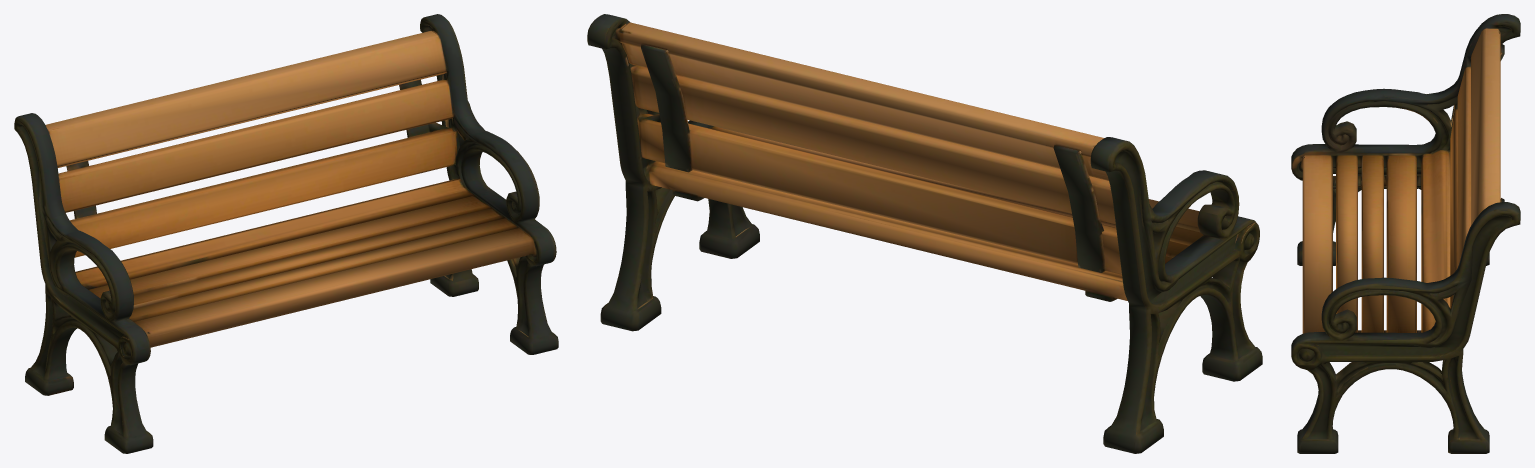
Rendered from a_park_bench_677d7774_v3.glb.
3 views of the same model, side by side, from view 1: azimuth 30°, elevation 25°; view 2: azimuth 150°, elevation 25°; view 3: azimuth 270°, elevation 25° (orthographic). The views are drawn at different scales.
Visible parts, largest first — view 1: material; view 2: material; view 3: material.
Part boxes in pixels (<box>): material: <box>14,14,558,453</box>; material: <box>587,14,1262,453</box>; material: <box>1291,14,1520,453</box>.
Size of the model in its own units: 1.9 by 1.06 by 0.9119.
Materials: 1 (1 with a texture image).
